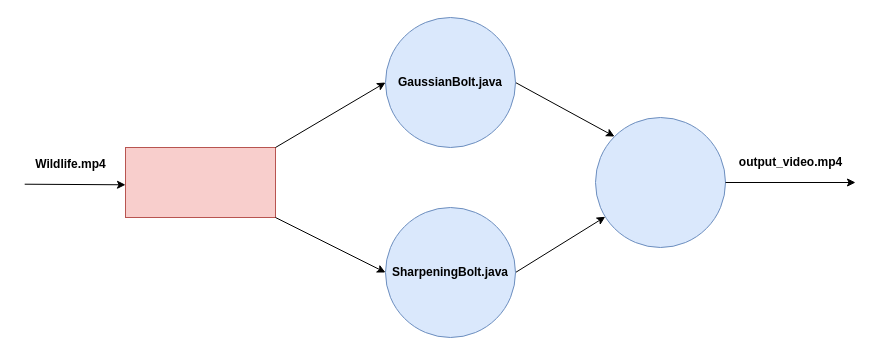
The diagram is 881 pixels wide and 355 high, and some of its shapes have lost their labels. Each missing label, with the box of its shape:
AggregationBolt.java: (594, 116, 726, 248)
ImageSpout.java: (124, 146, 276, 218)
